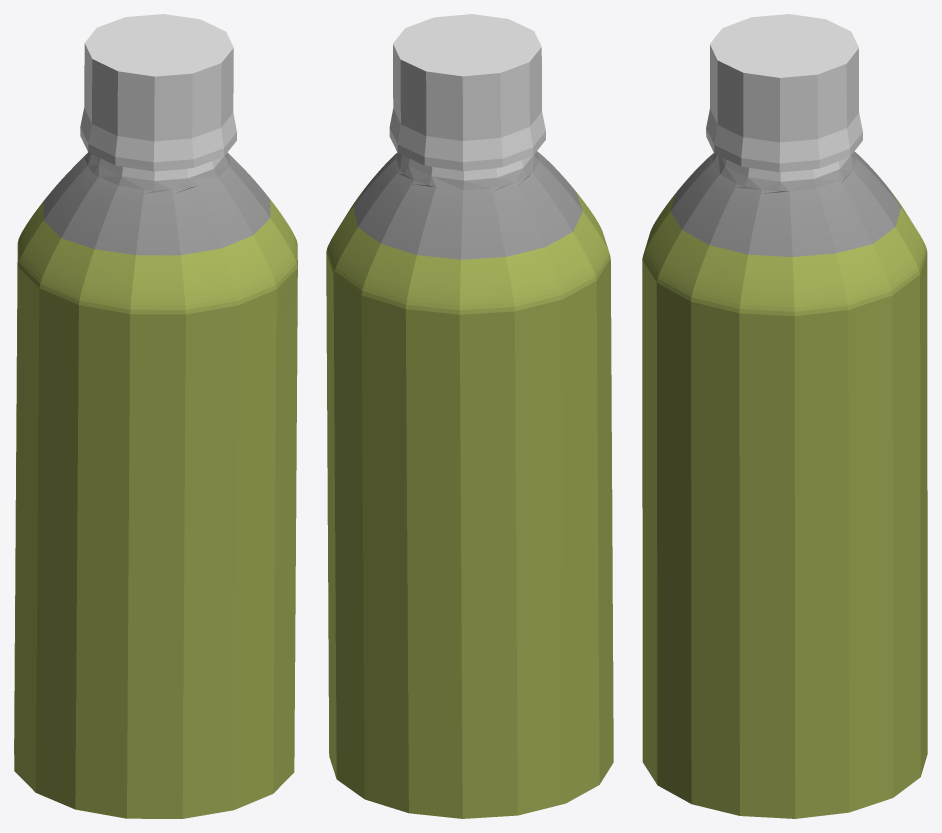
The model's file is greentea_bottle.dae.
The picture shows the model from 3 angles, left to right: view 1: azimuth 30°, elevation 25°; view 2: azimuth 150°, elevation 25°; view 3: azimuth 270°, elevation 25°; orthographic projection.
Visible parts, largest first — view 1: Petbottle; view 2: Petbottle; view 3: Petbottle.
Part boxes in pixels (bbox=[...]): Petbottle: bbox=[14, 14, 297, 818]; Petbottle: bbox=[326, 14, 613, 818]; Petbottle: bbox=[642, 14, 927, 818].
Bounding box in the file's own units: 60.64 × 59.98 × 166.
